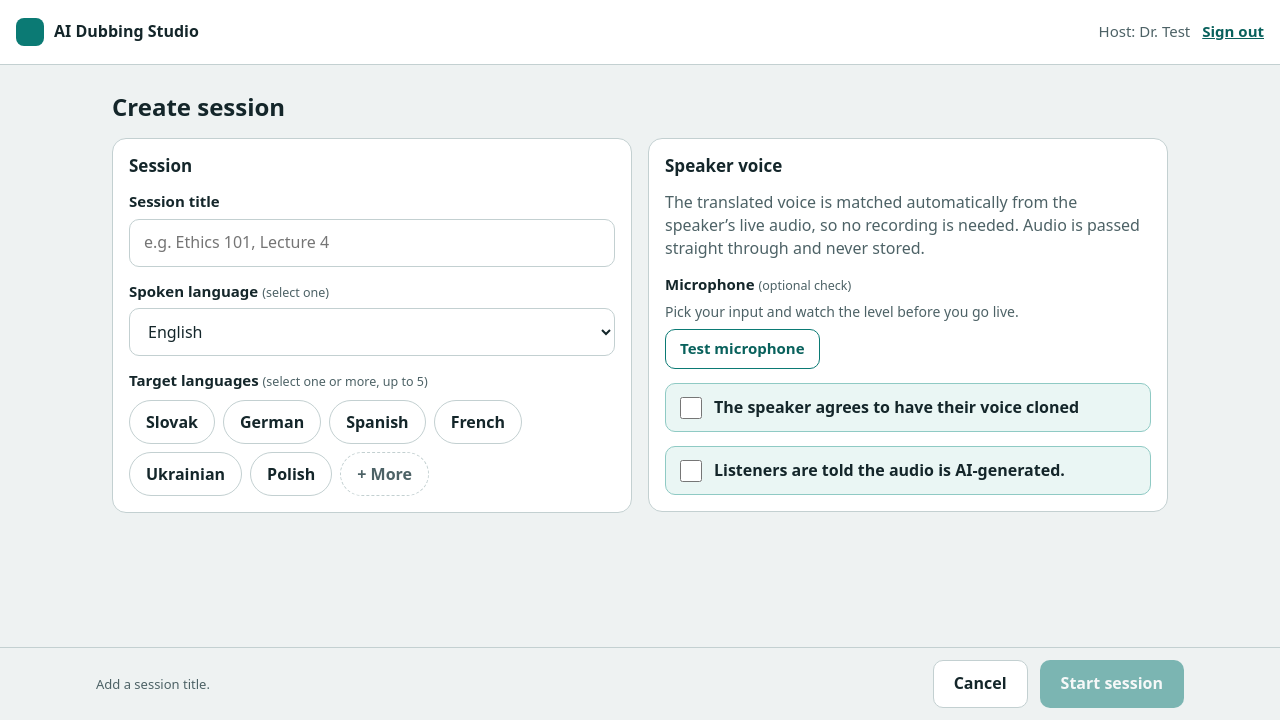
Test: Create session: microphone check › never blocks Start: the session needs only a title, a language and the consents
This screenshot has width=1280, height=720.
Check: the button "Start session" is disabled, box [1040,660,1184,708]
Check: the text "Add a session title." is shown, box [96,675,210,693]
Type "Ethics 101" into the field labelled "Session title".
click(372, 243); type("Ethics 101")  # box [129,219,615,267]
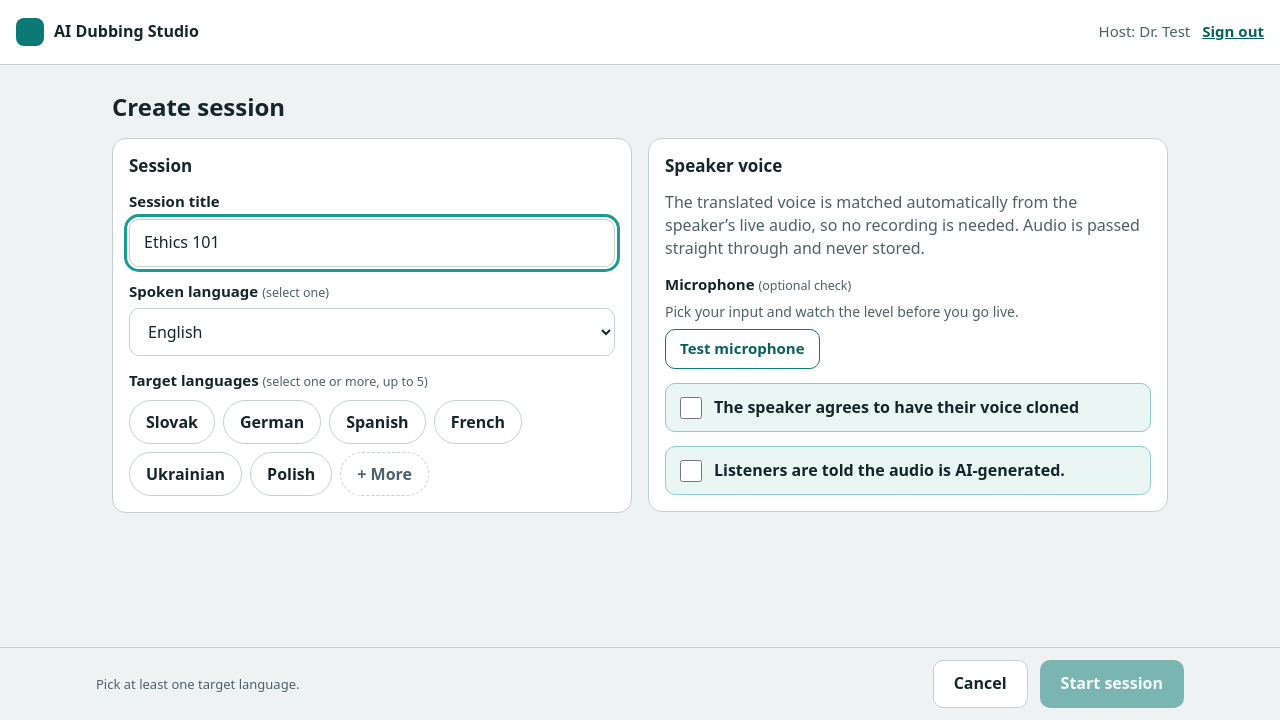
Click the button "Slovak".
click(172, 422)  # box [129,400,215,444]
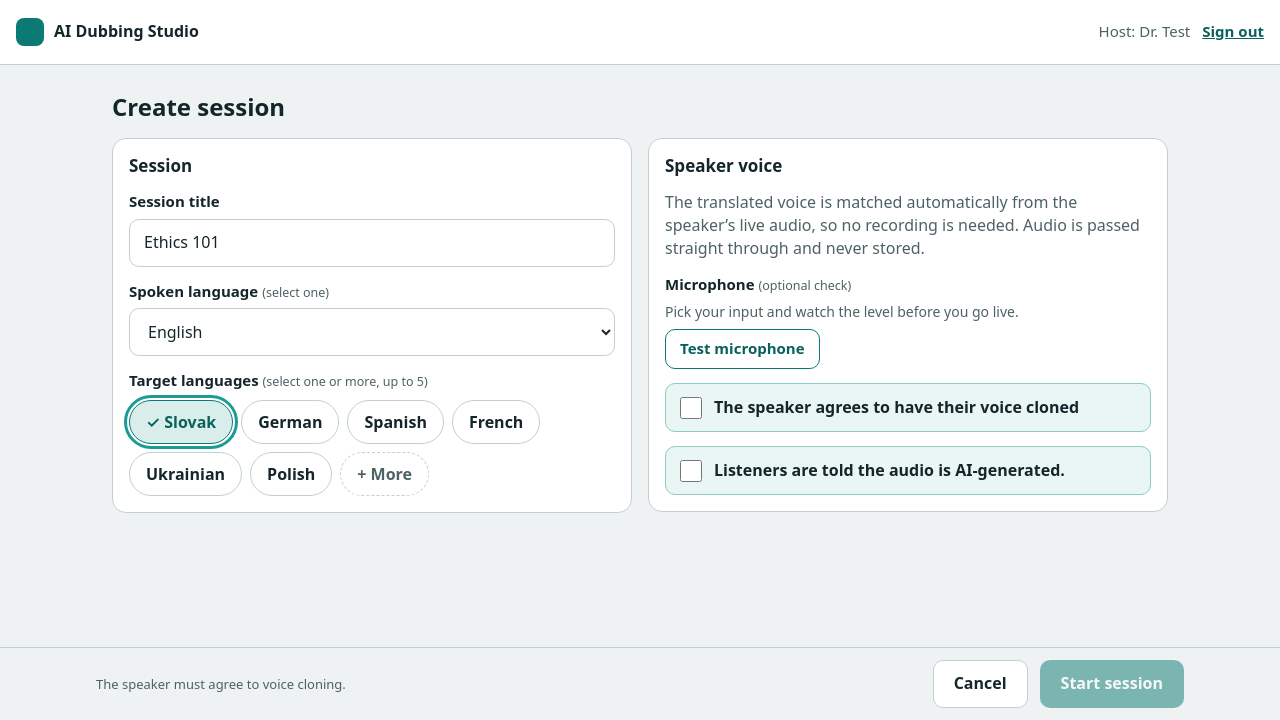
Click the checkbox labelled "The speaker agrees to have their voice cloned".
click(691, 408)  # box [680,396,702,418]
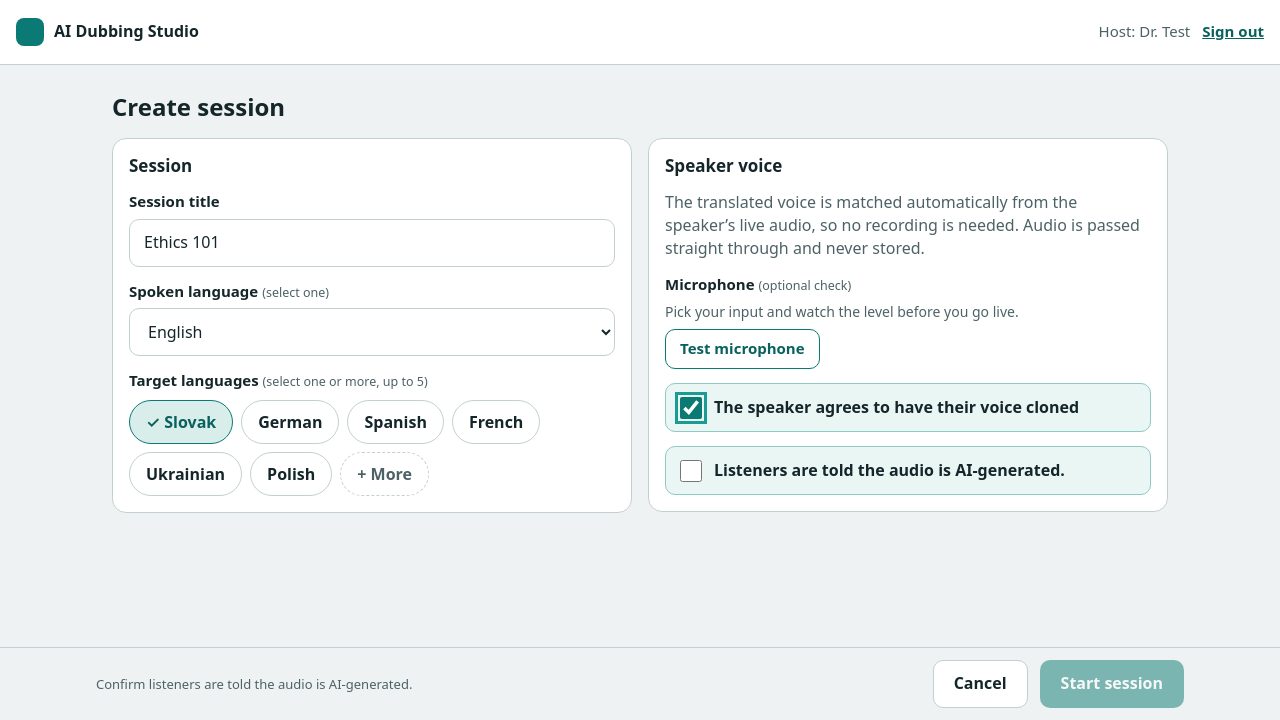
Click the checkbox labelled "Listeners are told the audio is AI-generated.".
click(691, 471)  # box [680,460,702,482]
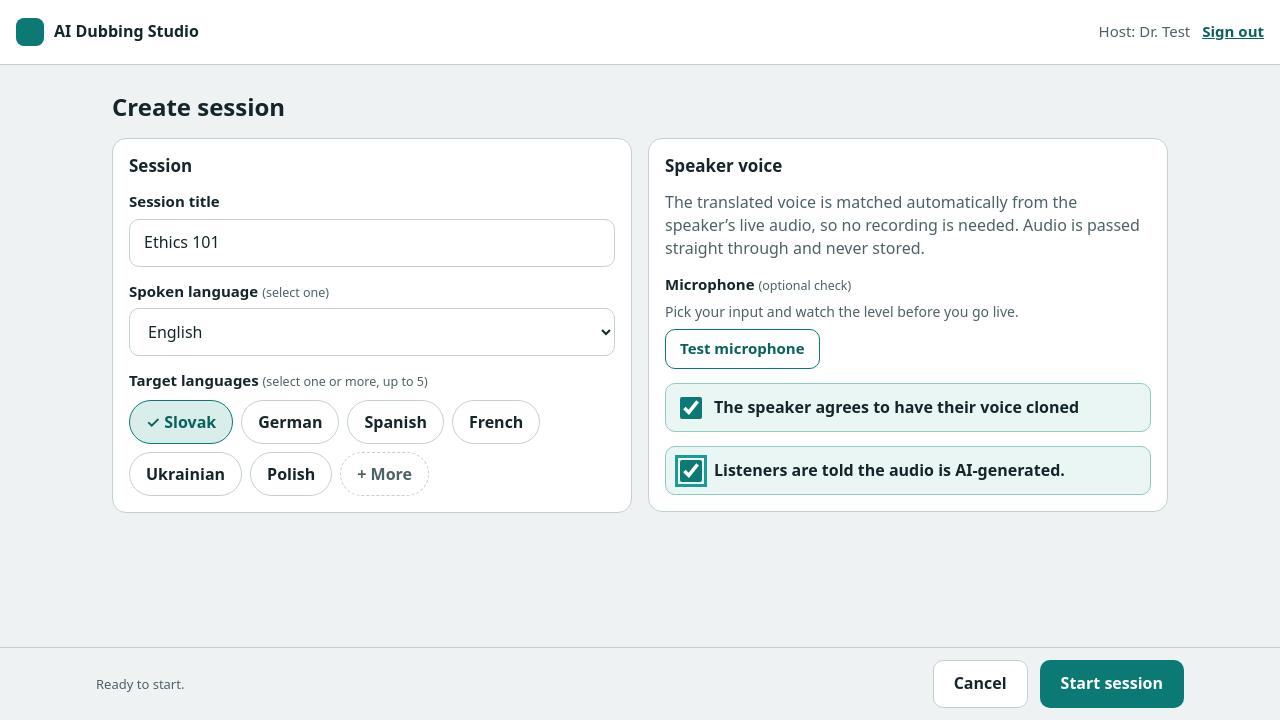
Check: the button "Start session" is enabled, box [1040,660,1184,708]
